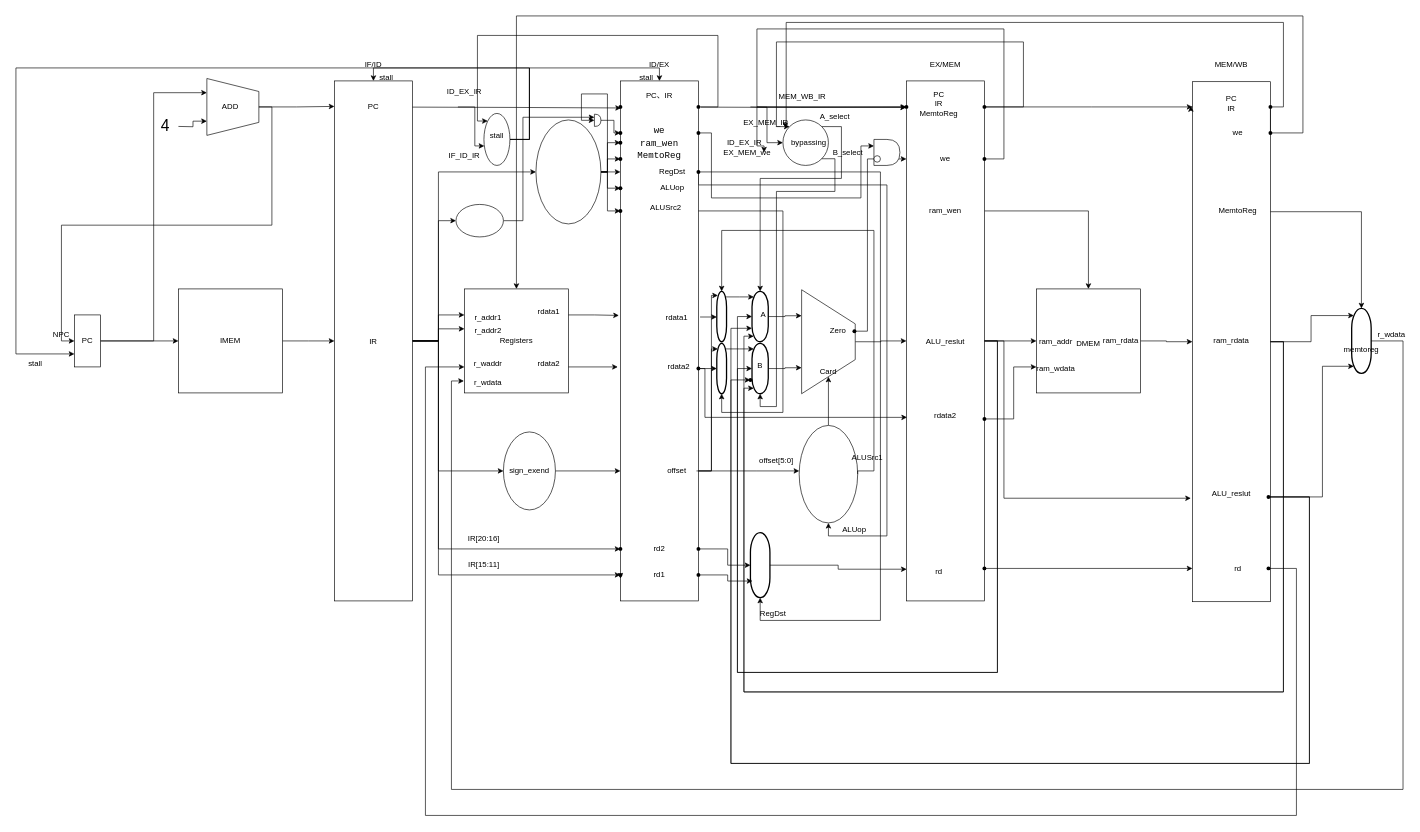
Image size: 1420x832. Some labels were removed from this diagram. The shapes that lost their labels are listed below. From the top down, each one's box as (x1, y1, x2, y2) in pixels, then its label:
(535, 119, 601, 224): Control
(455, 204, 503, 237): nop
(799, 425, 858, 523): ALU_control
(749, 532, 770, 598): dstReg
